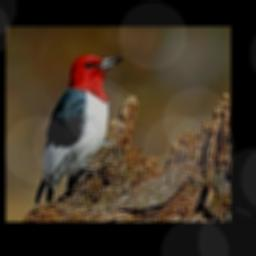Woodpecker: (34, 53, 122, 205)
